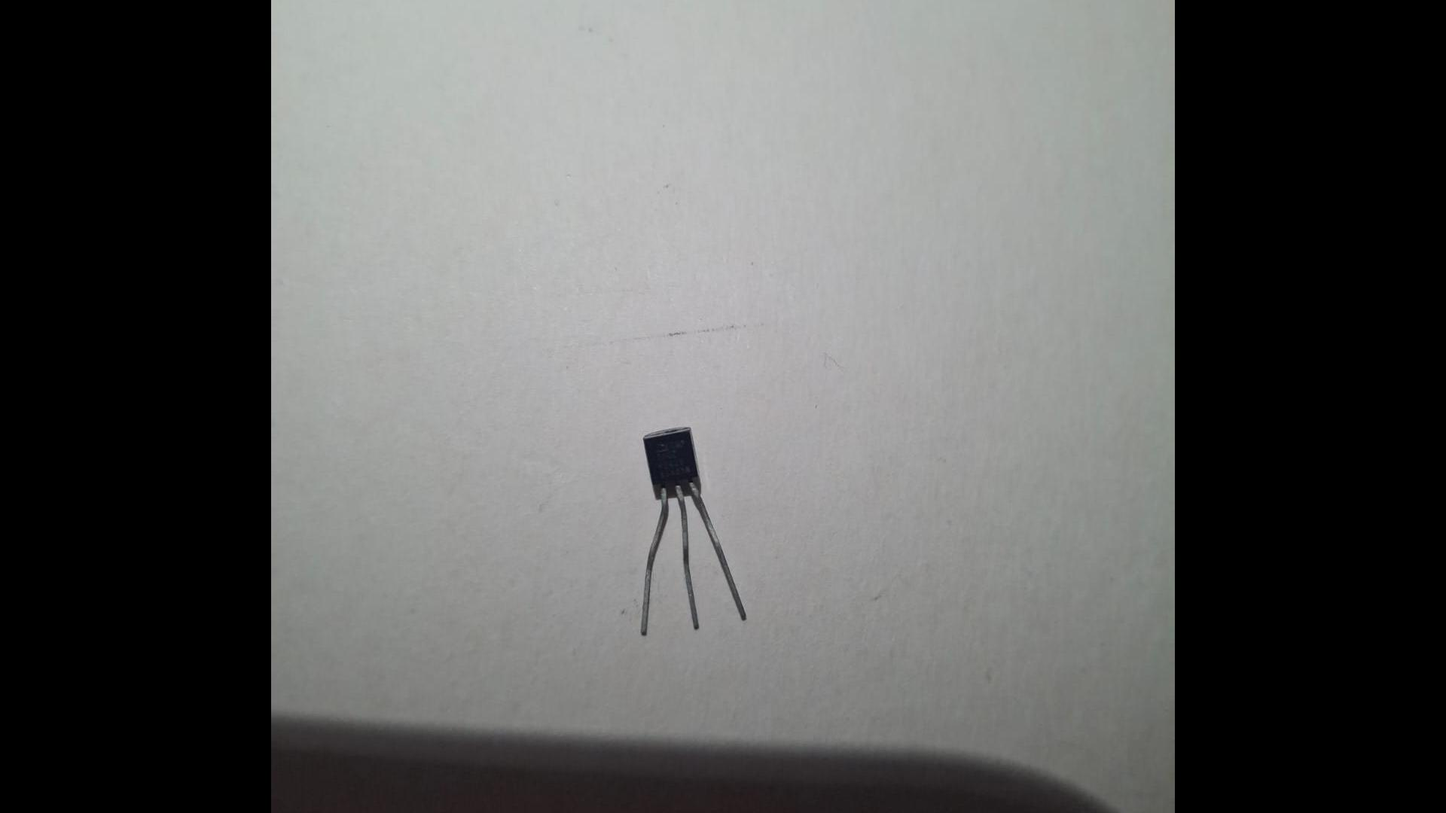Transistor: (592, 369, 791, 657)
